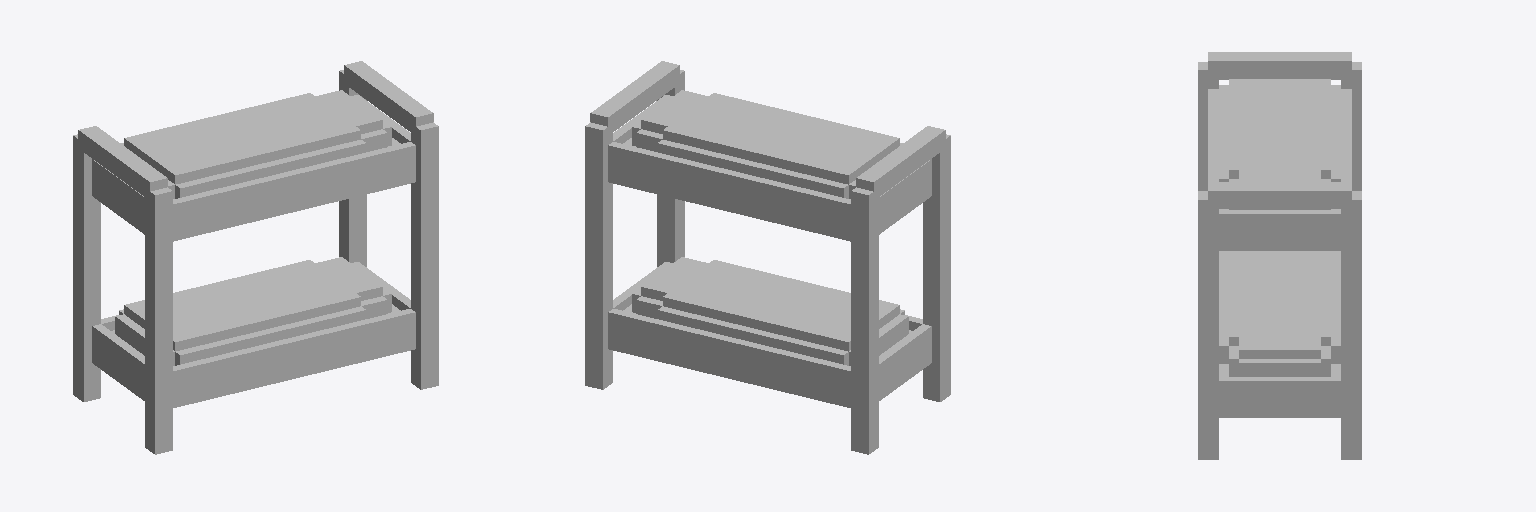
The model's file is bed.obj.
The picture shows the model from 3 angles: view 1: azimuth 30°, elevation 25°; view 2: azimuth 150°, elevation 25°; view 3: azimuth 270°, elevation 25°; orthographic projection.
Parts seen in each view (by area): view 1: object 1; view 2: object 1; view 3: object 1.
Part boxes in pixels (left/top/right/bottom): object 1: left=73, top=61, right=438, bottom=454; object 1: left=585, top=61, right=950, bottom=454; object 1: left=1198, top=52, right=1361, bottom=459.
Bounding box in the file's own units: 3.2 × 2.9 × 1.6.